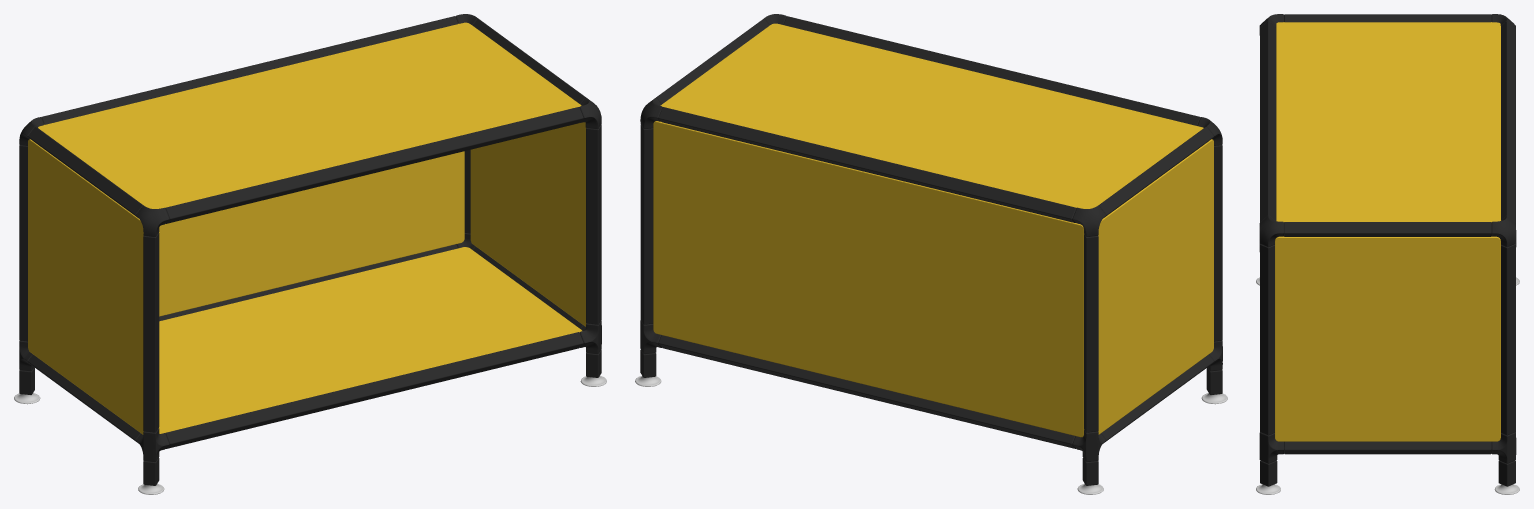
The picture shows the model from 3 angles, left to right: view 1: azimuth 30°, elevation 25°; view 2: azimuth 150°, elevation 25°; view 3: azimuth 270°, elevation 25°; orthographic projection. The views are drawn at different scales.
Parts seen in each view (by area): view 1: 729x329x329; view 2: 729x329x329; view 3: 729x329x329.
Part boxes in pixels (left/top/right/bottom): 729x329x329: left=14, top=14, right=606, bottom=494; 729x329x329: left=635, top=14, right=1227, bottom=494; 729x329x329: left=1256, top=14, right=1519, bottom=494.
Size of the model in its own units: 0.8189 by 0.4684 by 0.4181.
